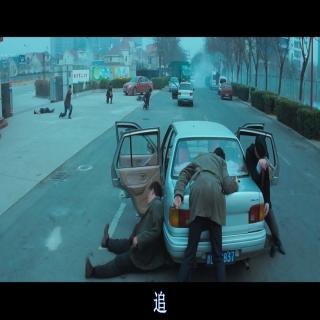gun: (262, 157, 274, 172)
